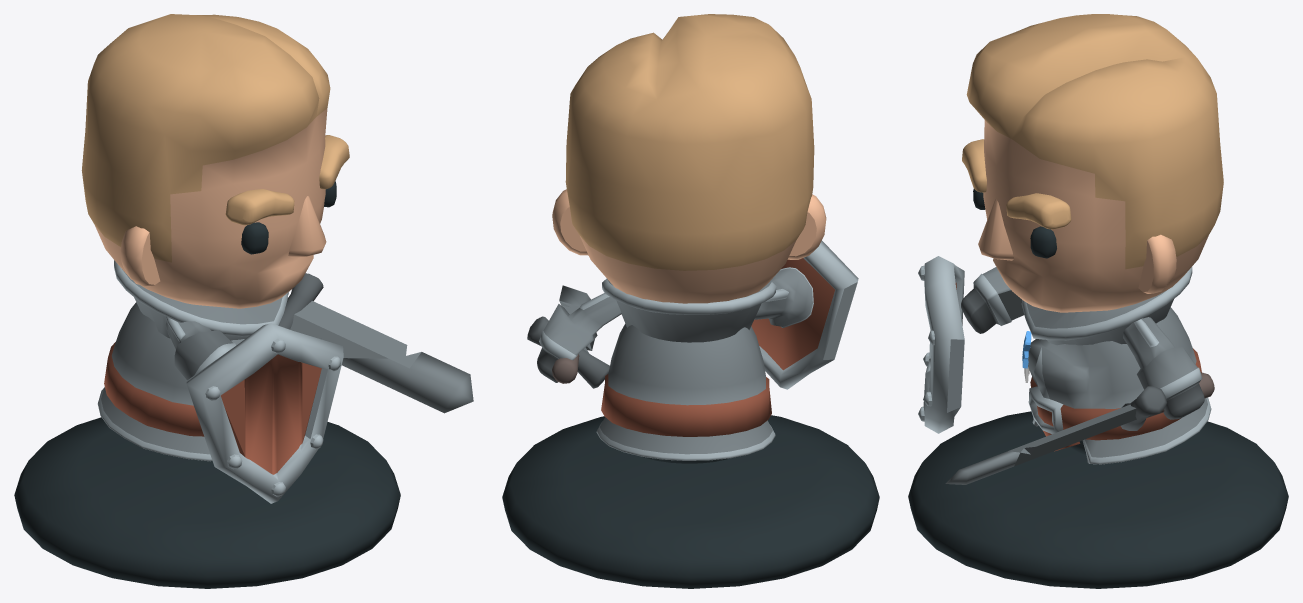
The model's file is knight.glb.
The picture shows the model from 3 angles, left to right: view 1: azimuth 30°, elevation 25°; view 2: azimuth 150°, elevation 25°; view 3: azimuth 270°, elevation 25°; orthographic projection. The views are drawn at different scales.
Parts seen in each view (by area): view 1: character_knightHead, plate, shield_uncommon, character_knightBody, sword_common, character_knightArmRight; view 2: character_knightHead, plate, character_knightBody, shield_uncommon, character_knightArmLeft, sword_common, character_knightArmRight; view 3: character_knightHead, plate, character_knightBody, shield_uncommon, sword_common, character_knightArmLeft, character_knightArmRight.
Boxes of the visible parts, left/top/right/bottom form: character_knightHead: left=81, top=14, right=349, bottom=308; plate: left=14, top=417, right=400, bottom=588; shield_uncommon: left=186, top=323, right=343, bottom=503; character_knightBody: left=97, top=260, right=287, bottom=461; sword_common: left=279, top=273, right=473, bottom=413; character_knightArmRight: left=165, top=316, right=236, bottom=380; character_knightHead: left=552, top=14, right=826, bottom=303; plate: left=502, top=415, right=879, bottom=588; character_knightBody: left=596, top=278, right=776, bottom=463; shield_uncommon: left=751, top=240, right=858, bottom=389; character_knightArmLeft: left=537, top=293, right=621, bottom=382; sword_common: left=527, top=285, right=609, bottom=388; character_knightArmRight: left=754, top=267, right=813, bottom=327; character_knightHead: left=962, top=14, right=1223, bottom=312; plate: left=908, top=411, right=1288, bottom=588; character_knightBody: left=1021, top=266, right=1211, bottom=464; shield_uncommon: left=918, top=256, right=964, bottom=433; sword_common: left=945, top=372, right=1214, bottom=484; character_knightArmLeft: left=1123, top=317, right=1204, bottom=419; character_knightArmRight: left=961, top=267, right=1024, bottom=333.
Bounding box in the file's own units: 1.76 × 2.24 × 1.62.
